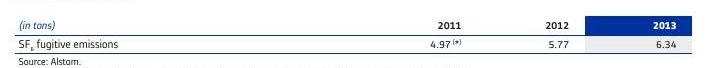table: (0, 0, 714, 68)
